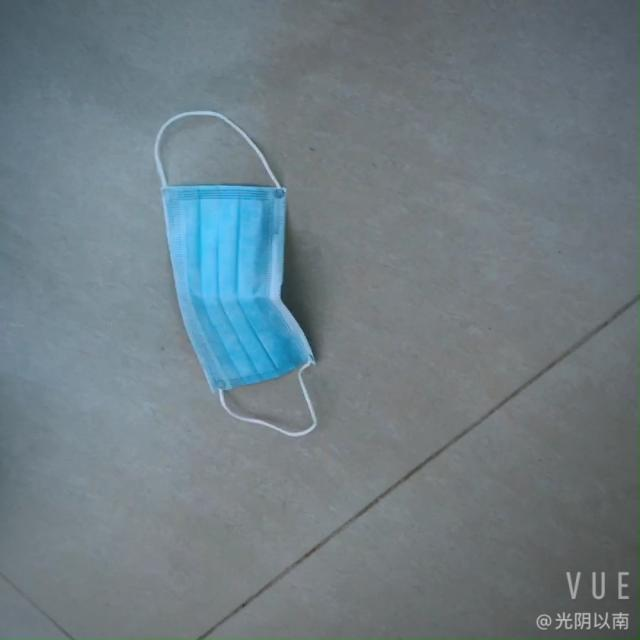face mask: (159, 125, 327, 418)
